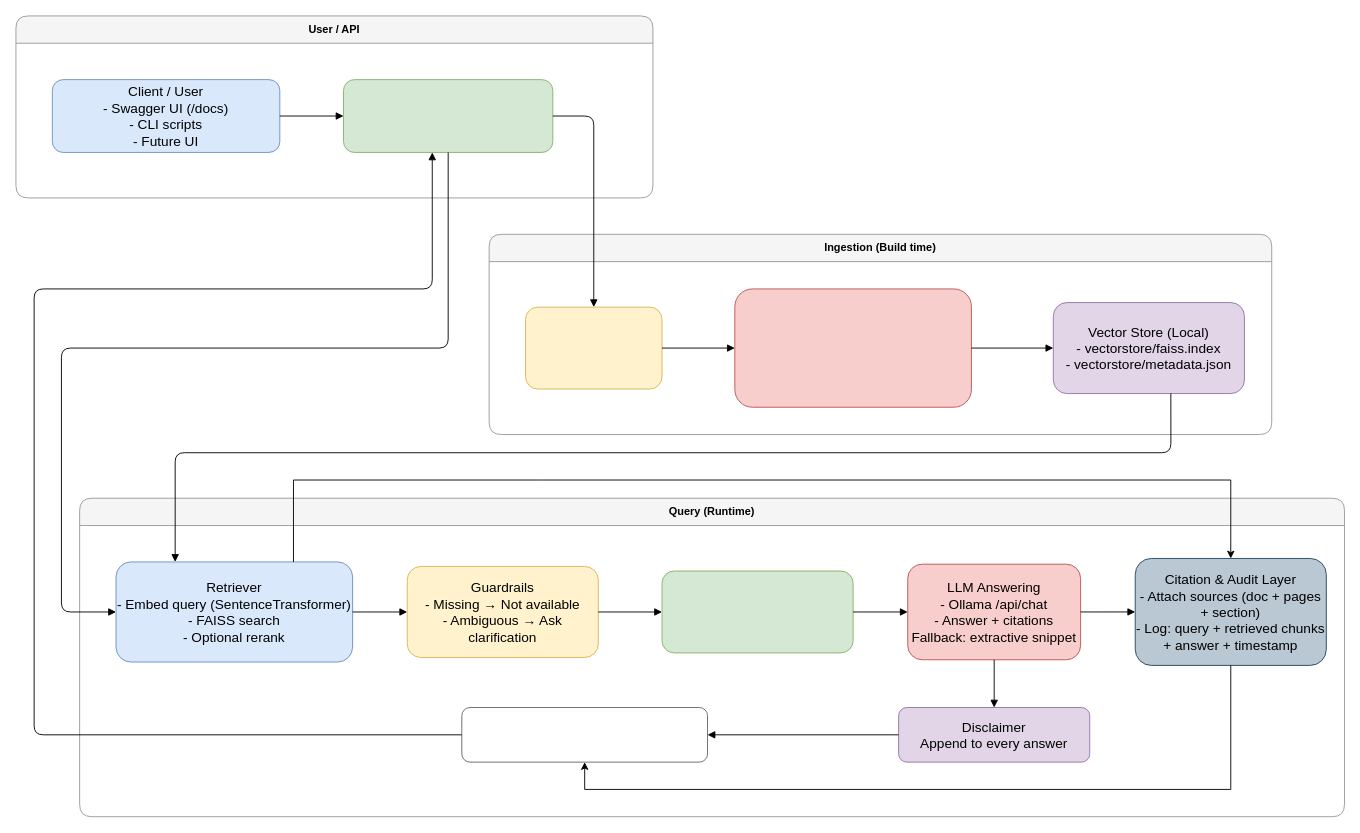
Image size: 1360x833. Some labels were removed from this diagram. Here are the shapes that lost their labels. From the top down, the centre of each, then its label:
At point (448, 115): "FastAPI API Layer - POST /upload - POST /query".
At point (593, 347): "PDF Storage data/pdfs/".
At point (852, 347): "Ingestion Pipeline (Rebuild on Upload) Extract Text Chunking Embed + Build FAISS".
At point (757, 611): "Prompt Builder - System rules - User prompt + CONTEXT chunks".
At point (584, 734): "Response JSON { answer, sources, status }".
